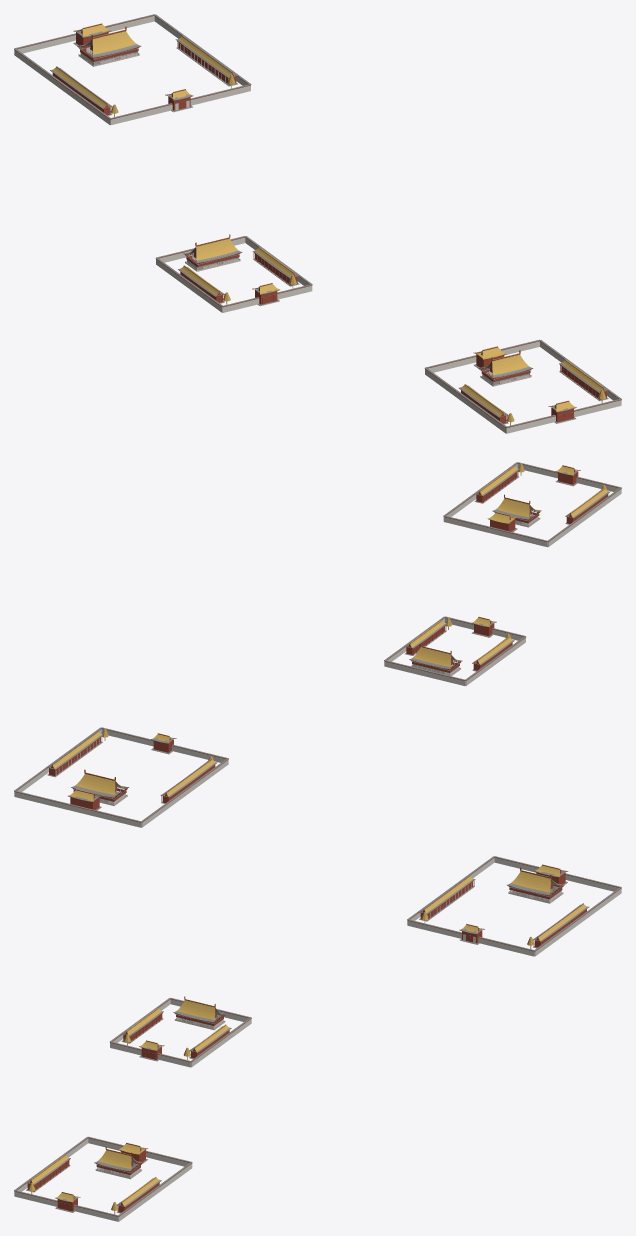
Rendered from r10_east_wings.glb.
3 renders of one model, top to bottom at view 1: azimuth 30°, elevation 25°; view 2: azimuth 150°, elevation 25°; view 3: azimuth 330°, elevation 25°, orthographic. The views are drawn at different scales.
Visible parts, largest first — view 1: r10_east_wings; view 2: r10_east_wings; view 3: r10_east_wings.
Part boxes in pixels (<box>): r10_east_wings: <box>14,14,621,433</box>; r10_east_wings: <box>14,462,621,827</box>; r10_east_wings: <box>14,856,621,1221</box>.
Size of the model in its own units: 197 by 18.86 by 700.
